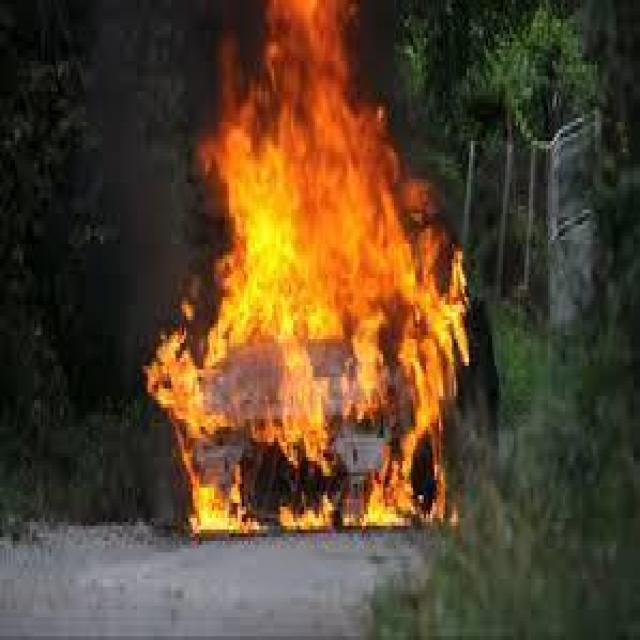fire: (109, 19, 510, 528)
